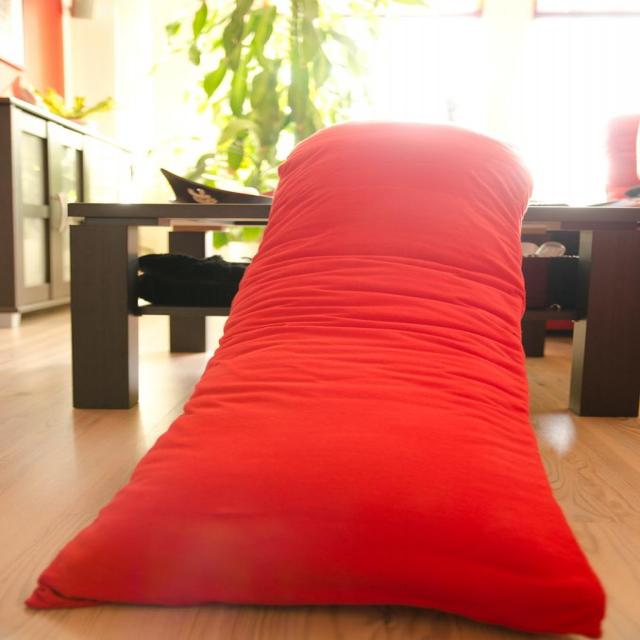table: (68, 204, 640, 418)
